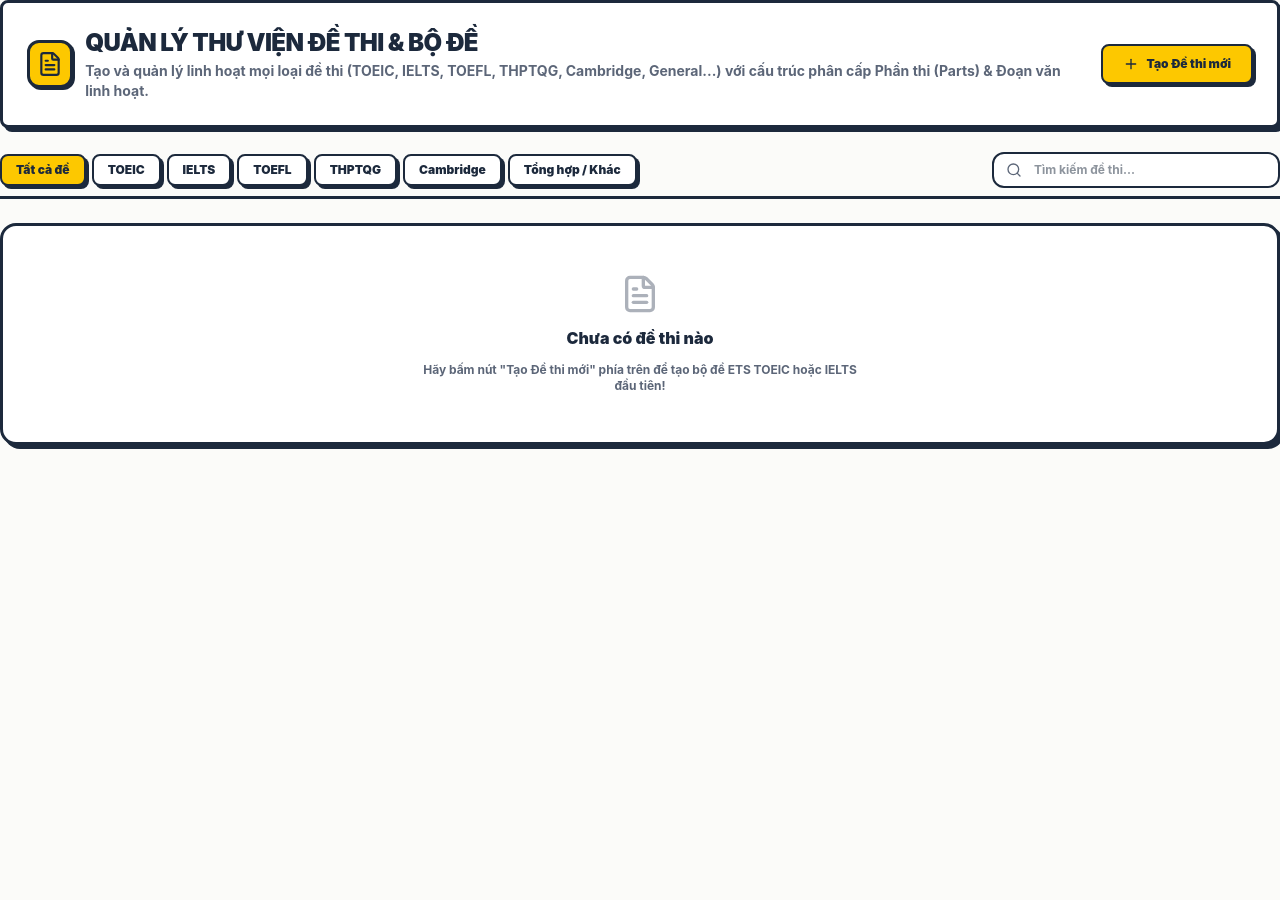
Scenario: AdminExamsPage › opens the visual creation wizard from the create action
Check: the heading "Chưa có đề thi nào" is shown, box x1=566 y1=326 x2=714 y2=350
Click the button "Tạo Đề thi mới".
click(1177, 64)  # box x1=1101 y1=44 x2=1253 y2=84
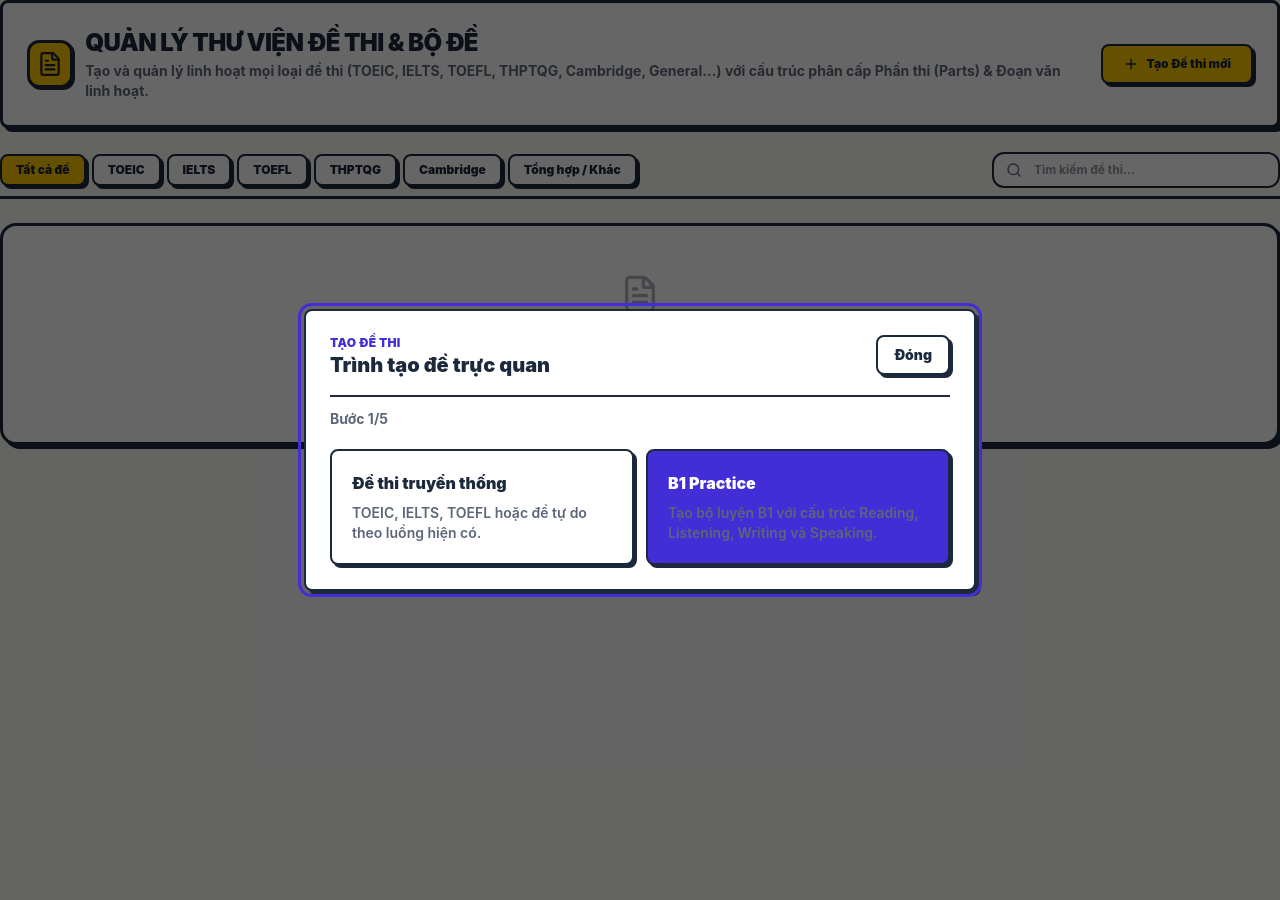
Check: the dialog "Trình tạo đề trực quan" is shown, box x1=304 y1=309 x2=976 y2=591
